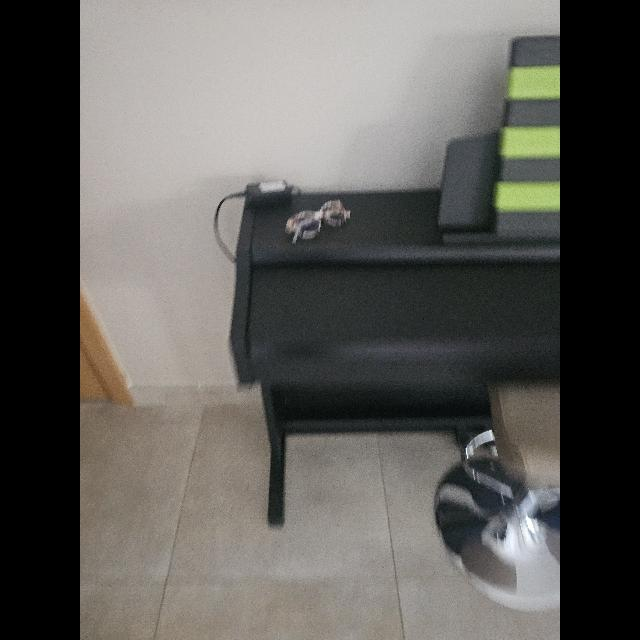glasses: (286, 200, 350, 244)
